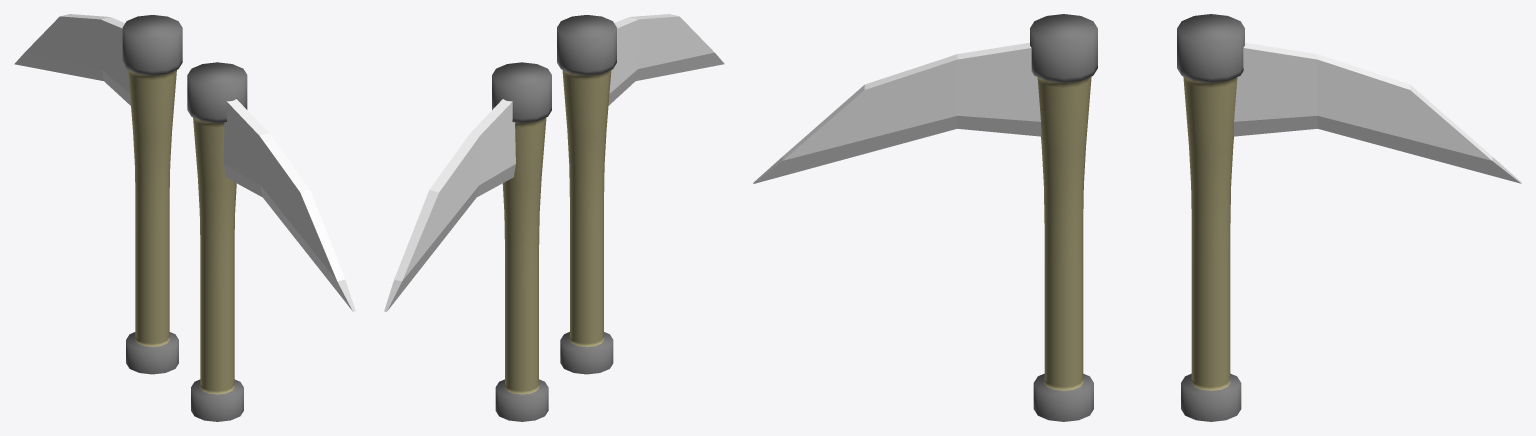
The model's file is KamaWeaponEnemy.fbx.
The picture shows the model from 3 angles, left to right: view 1: azimuth 30°, elevation 25°; view 2: azimuth 150°, elevation 25°; view 3: azimuth 270°, elevation 25°; orthographic projection. The views are drawn at different scales.
Parts seen in each view (by area): view 1: Circle.001, Circle; view 2: Circle, Circle.001; view 3: Circle.001, Circle.
Part boxes in pixels (x1,y1,x2,y2): Circle.001: [187, 62, 355, 421]; Circle: [14, 14, 182, 374]; Circle: [384, 62, 551, 421]; Circle.001: [557, 14, 724, 374]; Circle.001: [753, 14, 1097, 421]; Circle: [1177, 14, 1521, 421].
Size of the model in its own units: 1.26 by 7.76 by 14.18.
